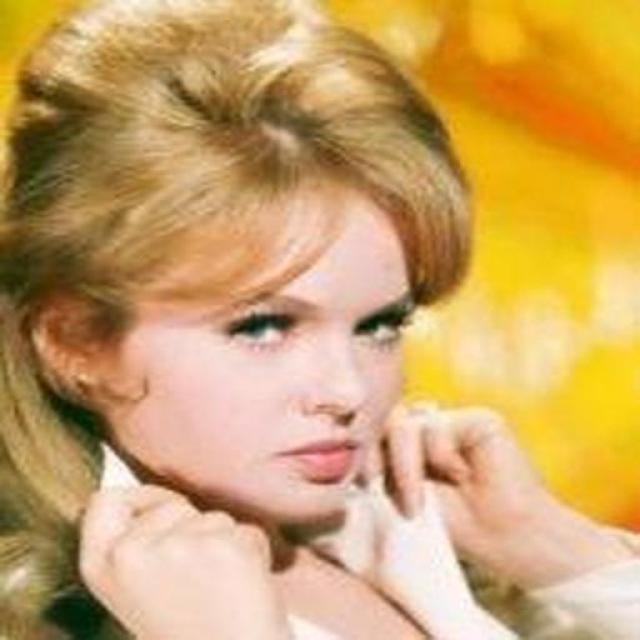bareface: (173, 216, 420, 528)
